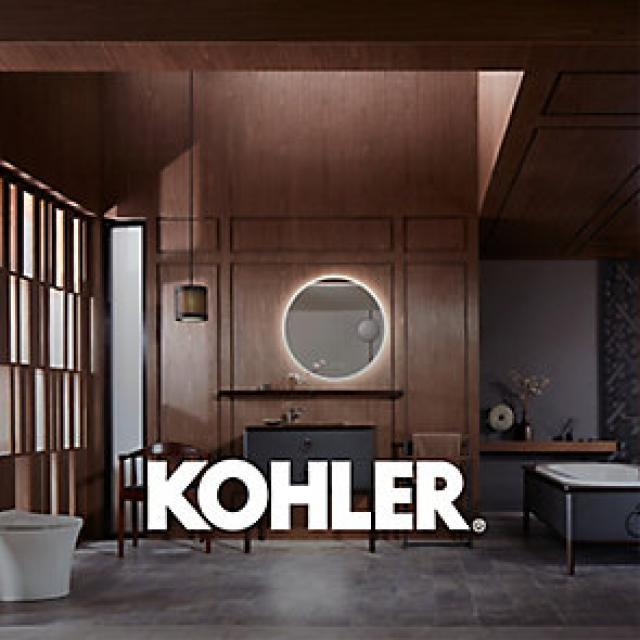Kohler: (144, 457, 488, 536)
